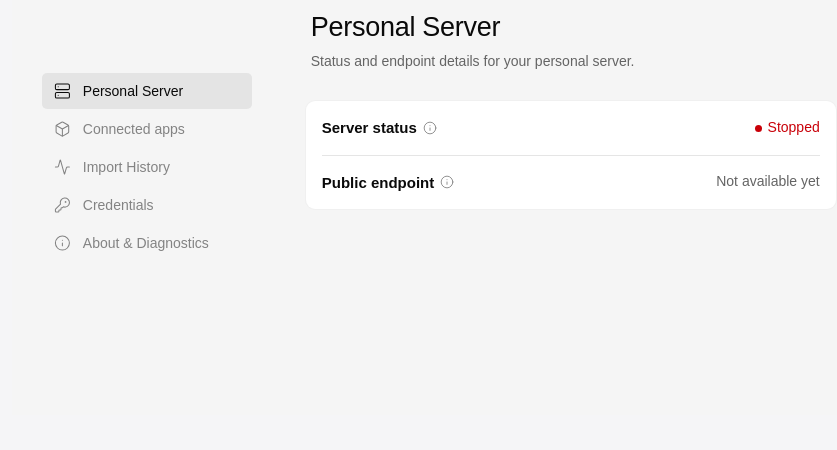
Scenario: Settings › switches to the apps section from the nav
Click the button "Connected apps" at (147, 129), box [42,111,252,147]
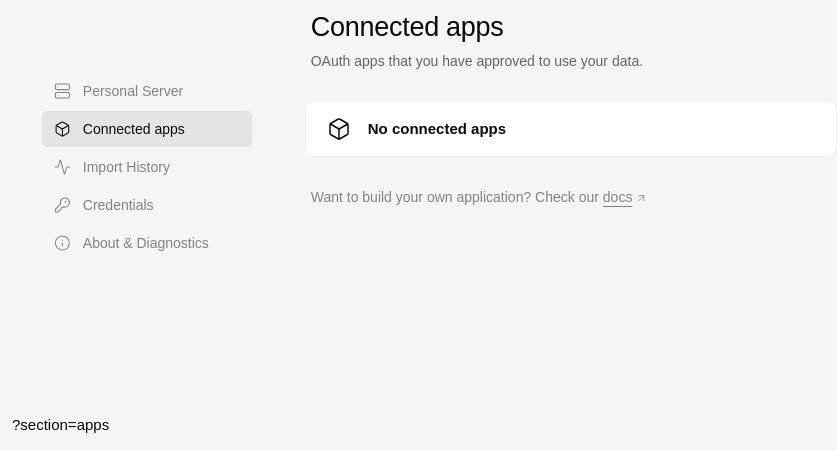
Now the text "No connected apps" is shown, box [368,120,506,137]
Now the text with test id "search" reads "?section=apps", box [12,416,109,433]
